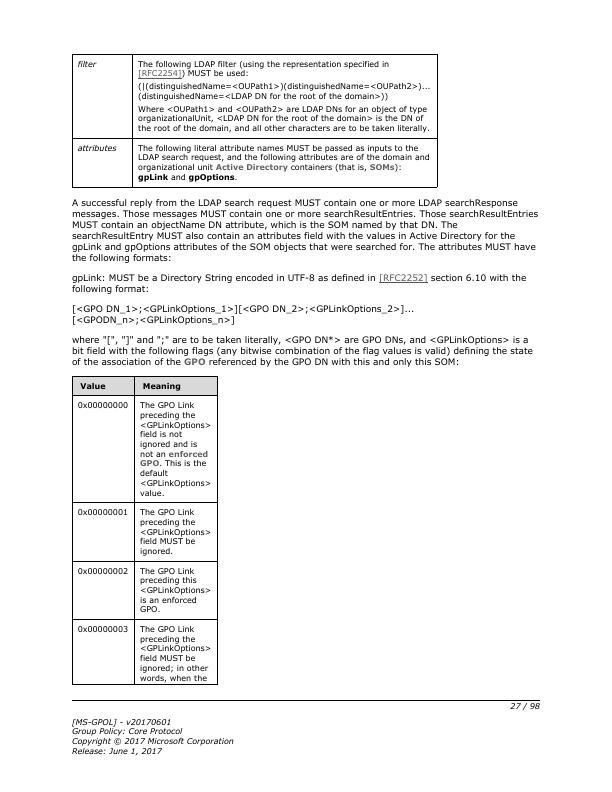table: (72, 53, 438, 189), (73, 377, 217, 684)
text: (68, 197, 539, 263), (70, 332, 534, 369), (67, 273, 529, 295), (69, 302, 417, 324), (69, 713, 238, 756)
